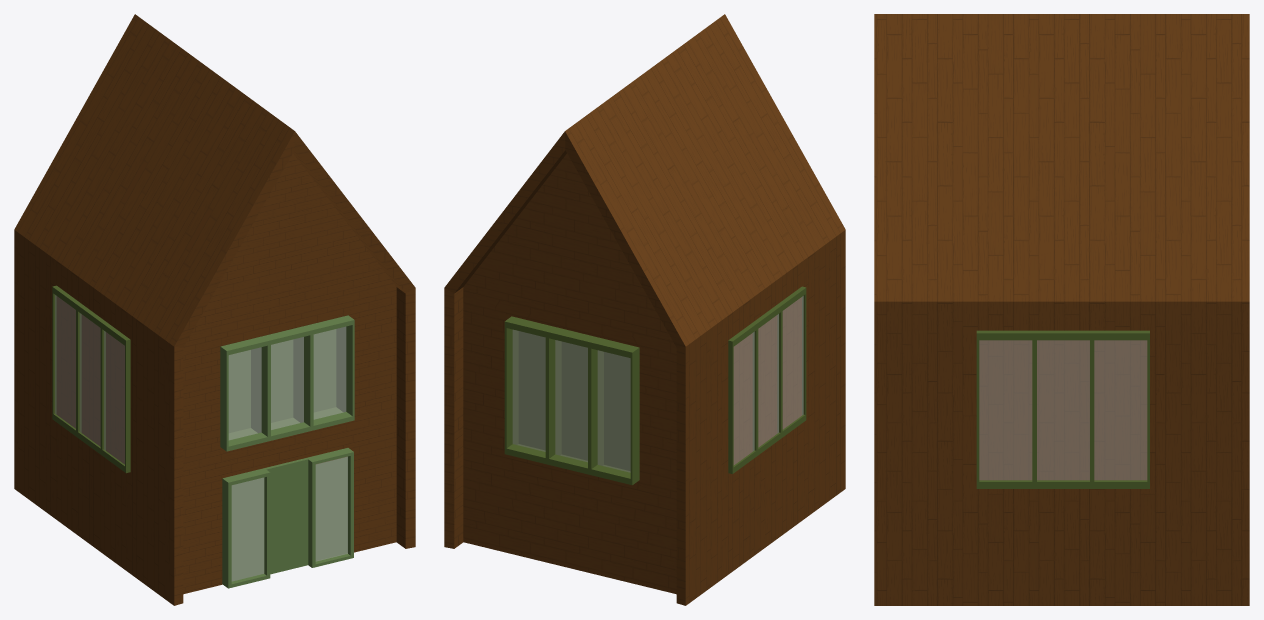
Rendered from houseType04.fbx.
3 renders of one model, left to right at view 1: azimuth 30°, elevation 25°; view 2: azimuth 150°, elevation 25°; view 3: azimuth 270°, elevation 25°, orthographic. The views are drawn at different scales.
Parts seen in each view (by area): view 1: houseType04; view 2: houseType04; view 3: houseType04.
Part boxes in pixels (x1,y1,x2,y2): houseType04: (14, 14, 415, 605); houseType04: (444, 14, 845, 605); houseType04: (874, 14, 1249, 605).
Size of the model in its own units: 20.56 by 34.96 by 22.76.
